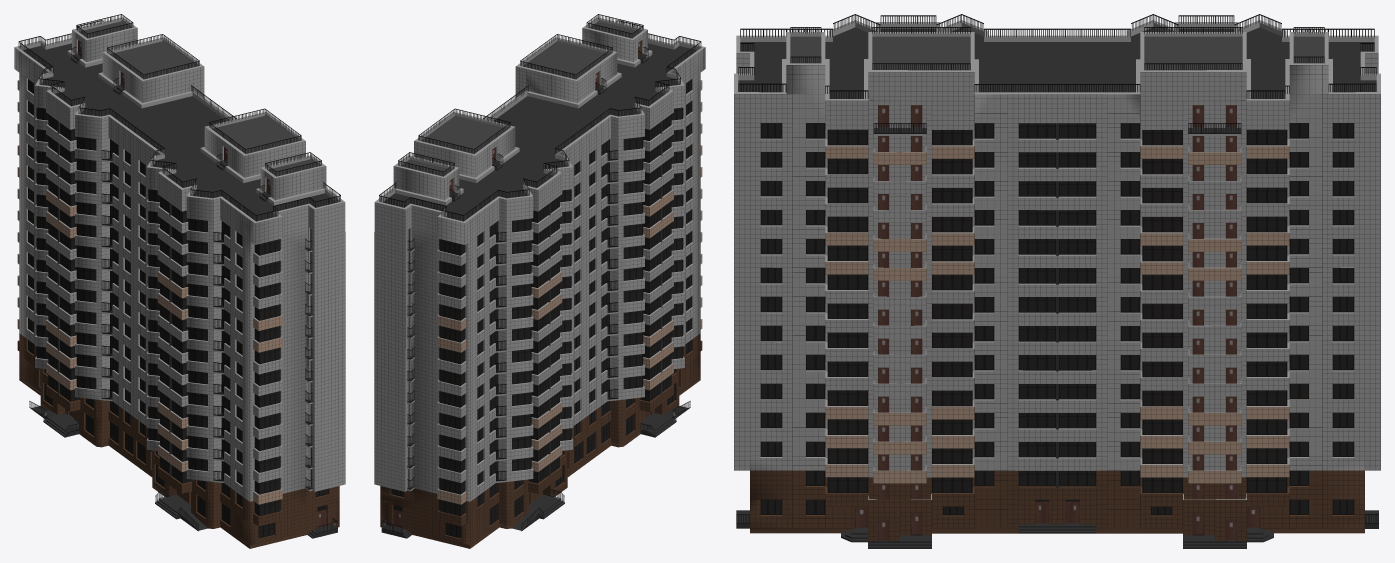
The model's file is residential_building.glb.
The picture shows the model from 3 angles, left to right: view 1: azimuth 30°, elevation 25°; view 2: azimuth 150°, elevation 25°; view 3: azimuth 270°, elevation 25°; orthographic projection. The views are drawn at different scales.
Visible parts, largest first — view 1: 12fl_Material #25_0; view 2: 12fl_Material #25_0; view 3: 12fl_Material #25_0.
Boxes of the visible parts, x1,y1,x2,y2 form: 12fl_Material #25_0: (14, 14, 345, 548); 12fl_Material #25_0: (374, 14, 705, 548); 12fl_Material #25_0: (734, 14, 1380, 548).
Size of the model in its own units: 20.06 by 49.2 by 60.71.
1 material, 1 textured.
